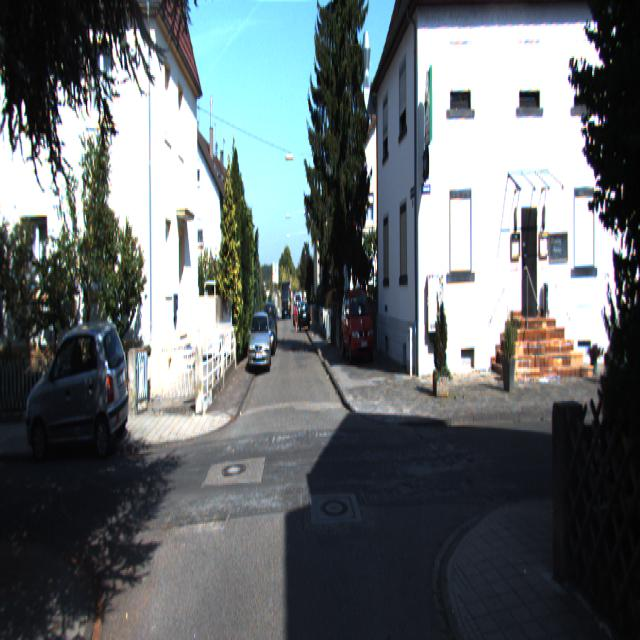Car: (25, 317, 132, 458), (341, 284, 374, 364), (249, 310, 270, 376)
